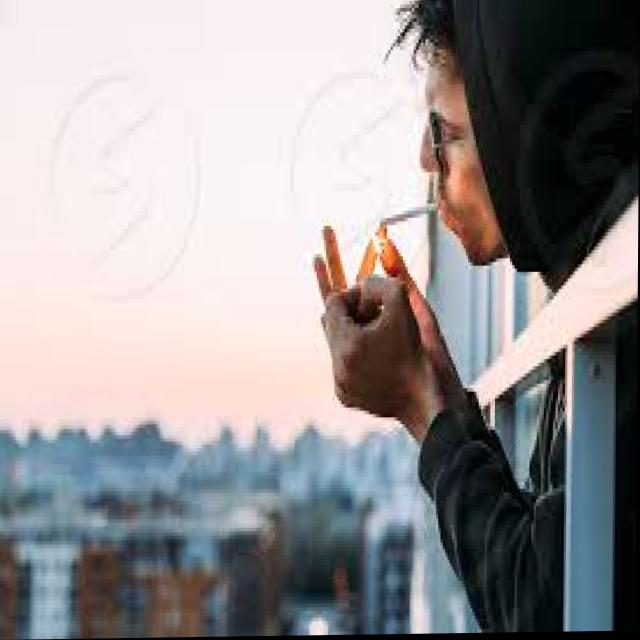fire: (350, 216, 387, 269)
